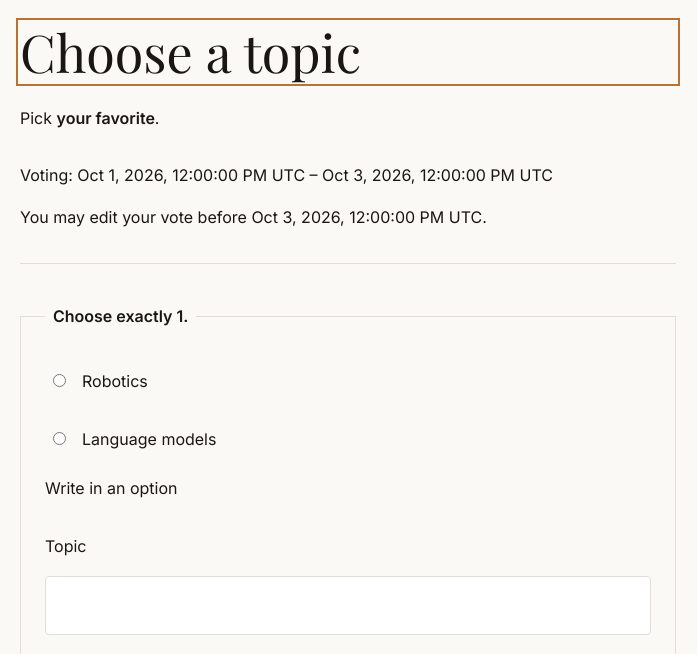
Scenario: allows editing after a detail reload even when only results fail
The image size is (697, 654).
Type "Saved choice" into the field labelled "Topic" at (348, 605), box [45,576,651,635]
(page scrolled)
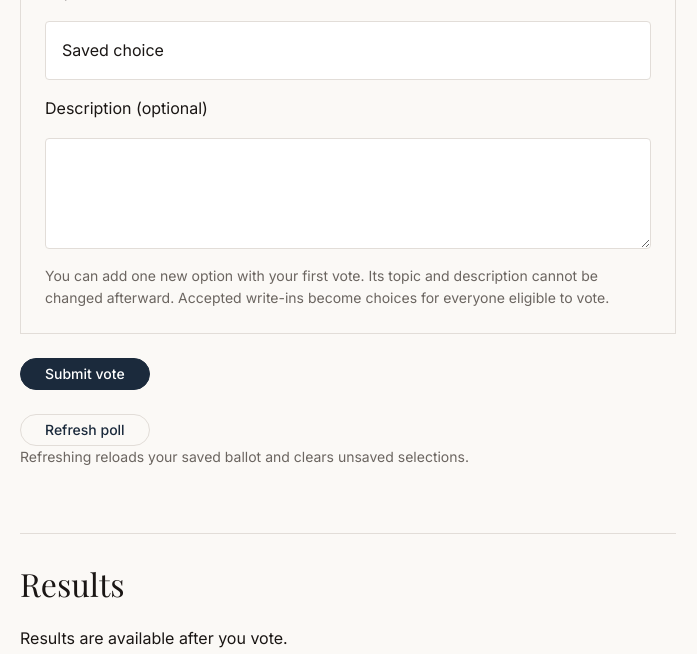
Click the button "Submit vote" at (85, 374), box [20,358,150,390]
(page scrolled)
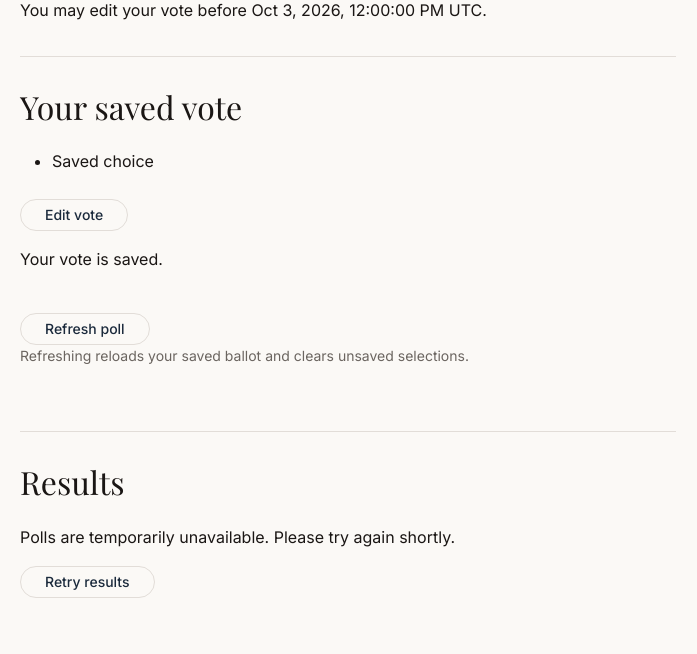
Expected: the button "Edit vote" is shown, [20,199,128,231]
Expected: the list item "Saved choice" is shown, [52,151,154,171]
Expected: the button "Retry results" is shown, [20,566,154,598]
